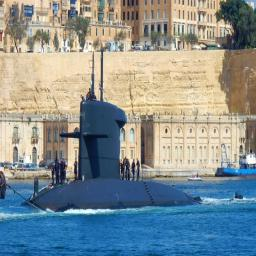submarine: (22, 106, 197, 209)
